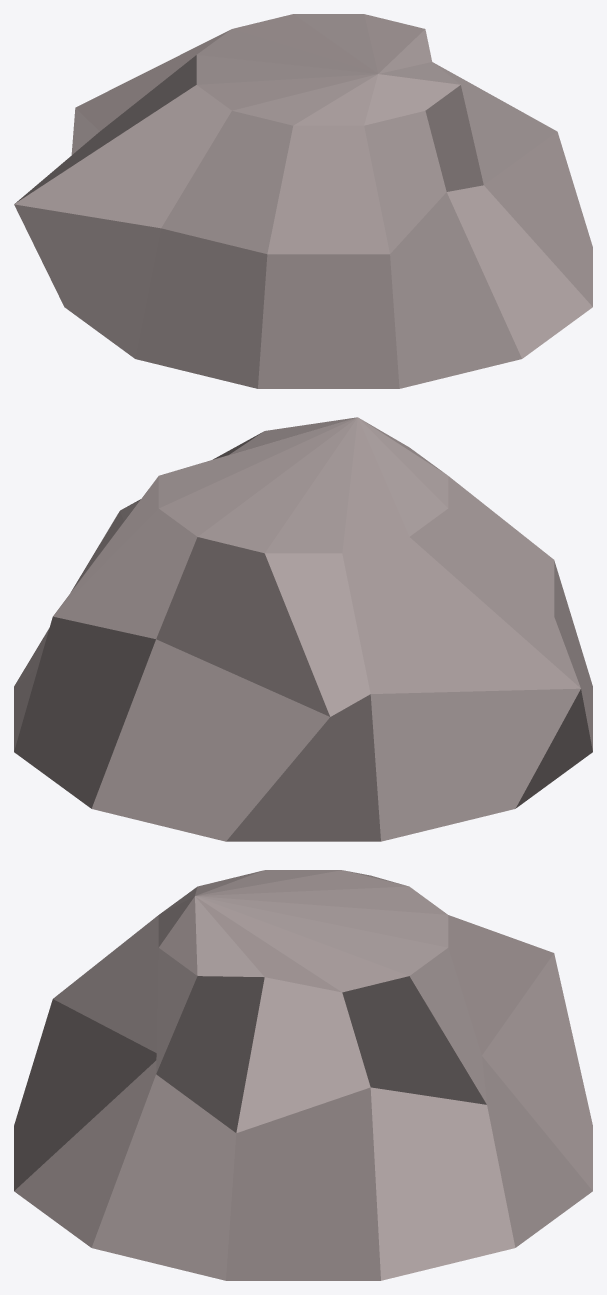
The model's file is Rock.gltf.
The picture shows the model from 3 angles, top to bottom: view 1: azimuth 30°, elevation 25°; view 2: azimuth 150°, elevation 25°; view 3: azimuth 270°, elevation 25°; orthographic projection. The views are drawn at different scales.
Visible parts, largest first — view 1: sphere; view 2: sphere; view 3: sphere.
Part boxes in pixels (<box>): sphere: <box>14,14,592,388</box>; sphere: <box>14,417,592,841</box>; sphere: <box>14,870,592,1280</box>.
Size of the model in its own units: 1.12 by 0.5 by 1.
Materials: 1 (1 with a texture image).
